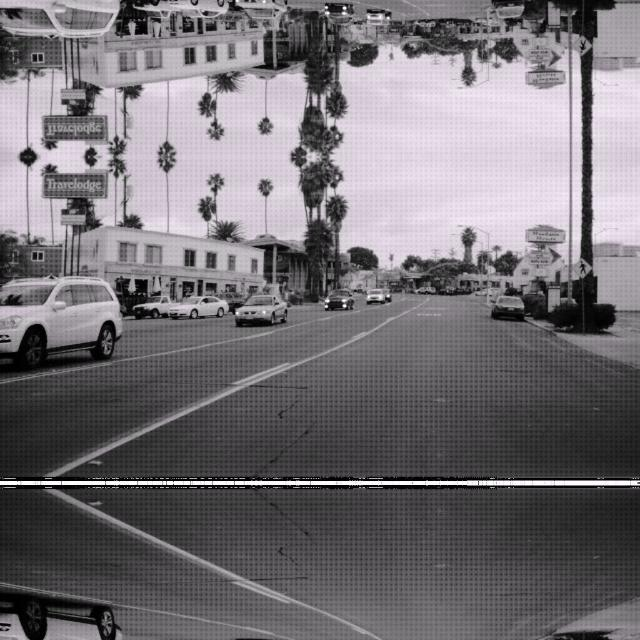pedestrianCrossing: (570, 34, 592, 58), (570, 255, 592, 278)
